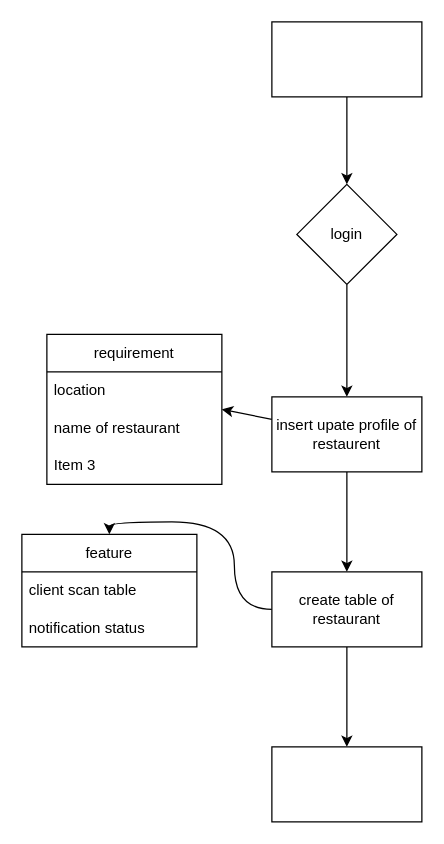
Some shapes in this 444 by 844 pixel diagram are drawn without their labels. The shapes that lost their labels are listed below. From the top down, each one's centre as x and y in pixels, then its label:
At [346,59]: "Homepage".
At [346,784]: "set menu & price".
